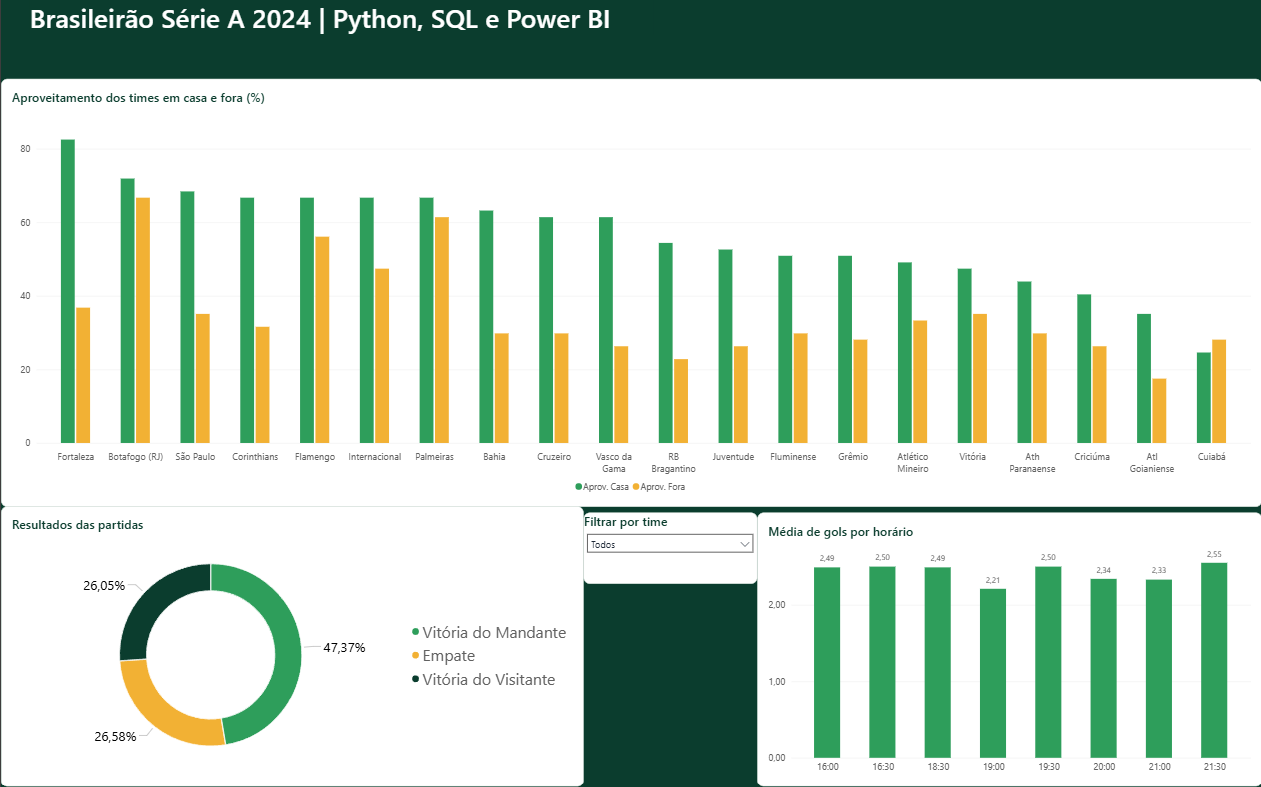

The page's visual inventory and layout, read from the dashboard file:
{"tool":"powerbi","page":{"name":"Casa x Fora","canvas":[1920,1200],"ordinal":1},"visuals":[{"type":"clusteredColumnChart","title":"Aproveitamento dos times em casa e fora (%)","fields":{"Category":["Gols_de_cada_time.time"],"Y":["Sum(aproveitamento_dos_times_emcasa_fora.aproveitamento_casa)","Sum(aproveitamento_dos_times_emcasa_fora.aproveitamento_fora)"]},"box":[0,119.7,1920,652.1],"z":0},{"type":"donutChart","title":"Resultados das partidas","fields":{"Category":["Distribuicao_dos_Resultados.resultado"],"Y":["Sum(Distribuicao_dos_Resultados.total_jogos)"]},"box":[0,770.6,886.9,428.2],"z":1000},{"type":"slicer","title":"Filtrar por time","fields":{"Values":["Times.time"]},"box":[886.9,780.3,264.6,108.5],"z":2000},{"type":"clusteredColumnChart","title":"Média de gols por horário","fields":{"Category":["Media_de_gols_horário.horario"],"Y":["Sum(Media_de_gols_horário.media_gols)"]},"box":[1151.5,780.1,768.9,418.7],"z":3000},{"type":"textbox","title":"Brasileirão Série A 2024 | Python, SQL e Power BI","box":[43.8,0,949.7,53.3],"z":3001}]}

Visuals, with their boxes in screenshot pixels (x1, y1, x2, y2), scaled from the page's 1920x1200 canvas onto the 1261x787 screenshot:
"Aproveitamento dos times em casa e fora (%)" clusteredColumnChart: region(0, 79, 1260, 506)
"Resultados das partidas" donutChart: region(0, 505, 582, 786)
"Filtrar por time" slicer: region(582, 512, 756, 583)
"Média de gols por horário" clusteredColumnChart: region(756, 512, 1260, 786)
"Brasileirão Série A 2024 | Python, SQL e Power BI" textbox: region(29, 0, 653, 35)
